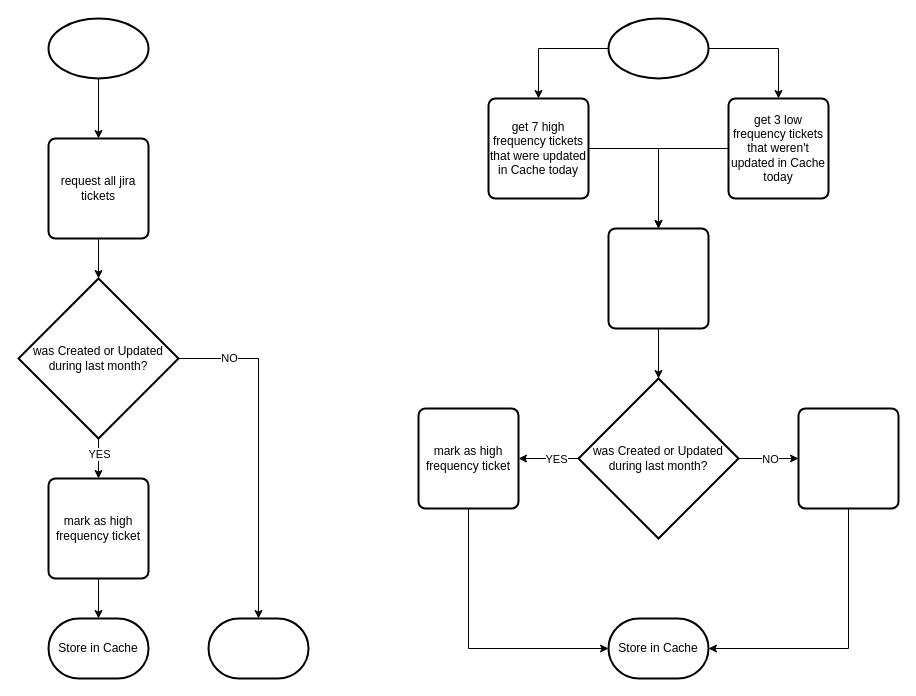
This 916x696 diagram has some shape labels left out. Here are the shapes that lost their labels. From the top down, the box of each, then its label:
(47, 17, 149, 79): Every Morning
(607, 17, 709, 79): Every 5 Minutes
(607, 227, 709, 329): request ticket data from Jira in no particular order
(797, 407, 899, 509): mark as low frequency ticket
(207, 617, 309, 679): Ignore Ticket
